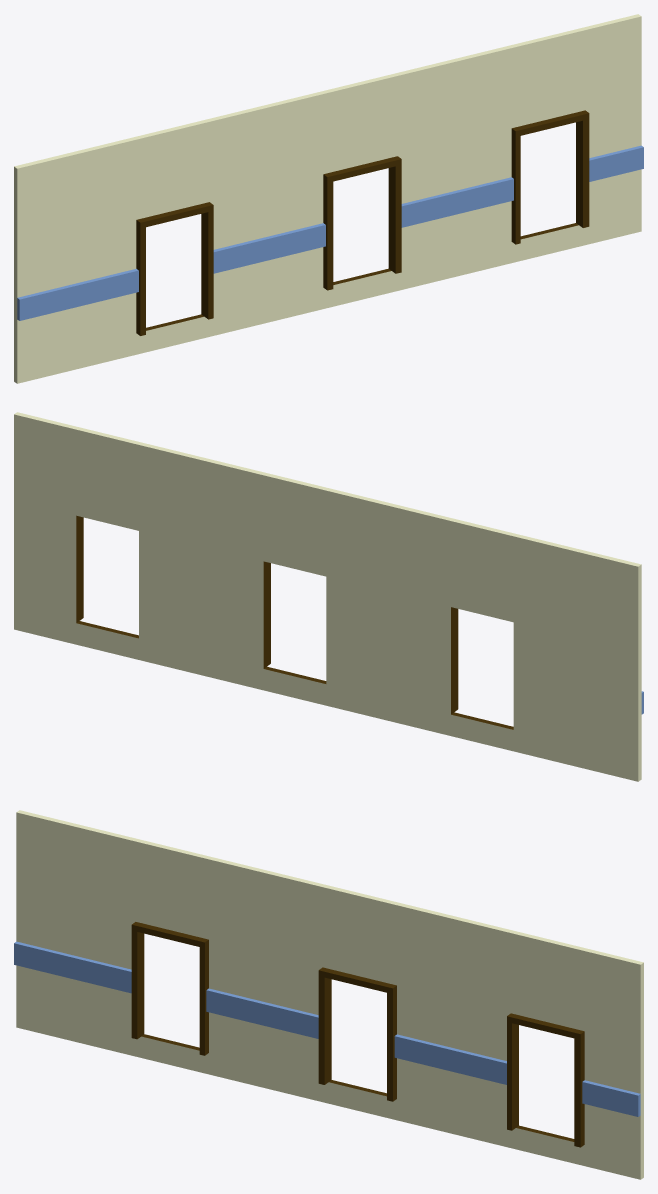
Rendered from outerRoom_wall.fbx.
3 views of the same model, one above another, from view 1: azimuth 30°, elevation 25°; view 2: azimuth 150°, elevation 25°; view 3: azimuth 330°, elevation 25° (orthographic).
Parts seen in each view (by area): view 1: outerRooms_wall_geo; view 2: outerRooms_wall_geo; view 3: outerRooms_wall_geo.
Boxes of the visible parts, x1,y1,x2,y2 form: outerRooms_wall_geo: [14, 14, 643, 383]; outerRooms_wall_geo: [14, 412, 643, 781]; outerRooms_wall_geo: [14, 810, 643, 1179].
Bounding box in the file's own units: 2030 × 668 × 40.45.
1 material, 1 textured.
